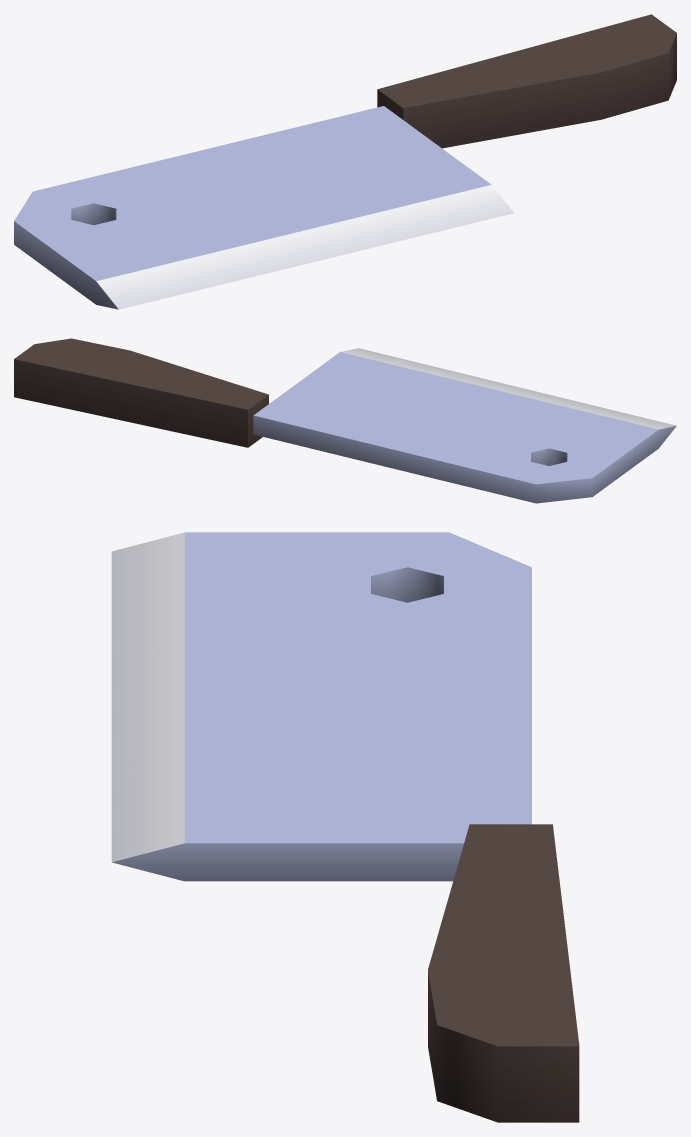
The model's file is cooking-knife-chopping.glb.
3 views of the same model, one above another, from view 1: azimuth 30°, elevation 25°; view 2: azimuth 150°, elevation 25°; view 3: azimuth 270°, elevation 25° (orthographic). The views are drawn at different scales.
Visible parts, largest first — view 1: cooking-knife-chopping; view 2: cooking-knife-chopping; view 3: cooking-knife-chopping.
Part boxes in pixels (box(x1,y1,x2,y2)): cooking-knife-chopping: box(14, 14, 676, 309); cooking-knife-chopping: box(14, 338, 676, 503); cooking-knife-chopping: box(111, 532, 579, 1122).
Bounding box in the file's own units: 0.6 × 0.04 × 0.2227.
1 material, 1 textured.
